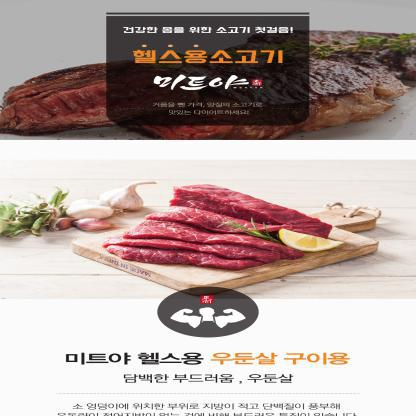beef: (156, 180, 285, 264)
